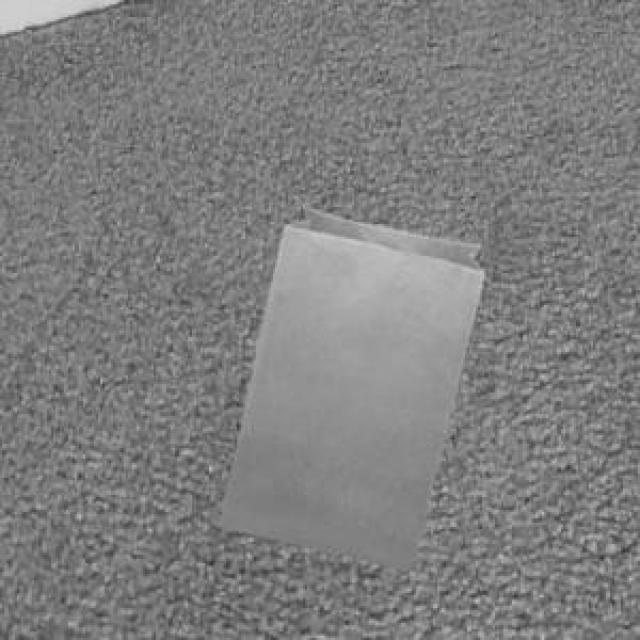paper: (216, 203, 480, 565)
